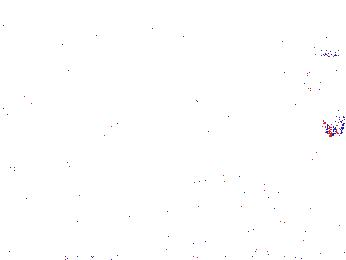flame jellyfish: (300, 46, 346, 137), (272, 173, 346, 227), (216, 160, 267, 210)
